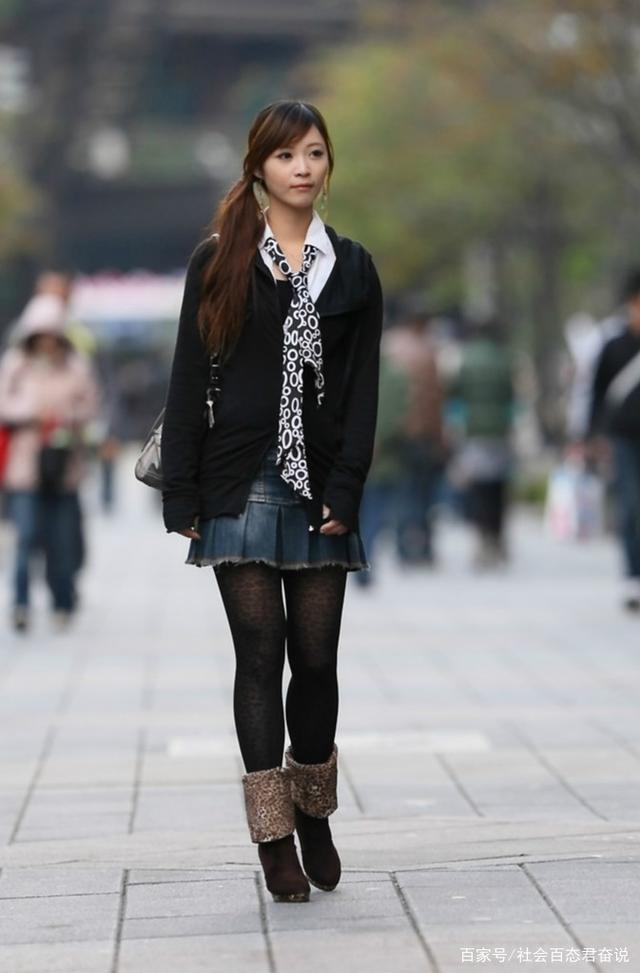person: (161, 89, 523, 879)
